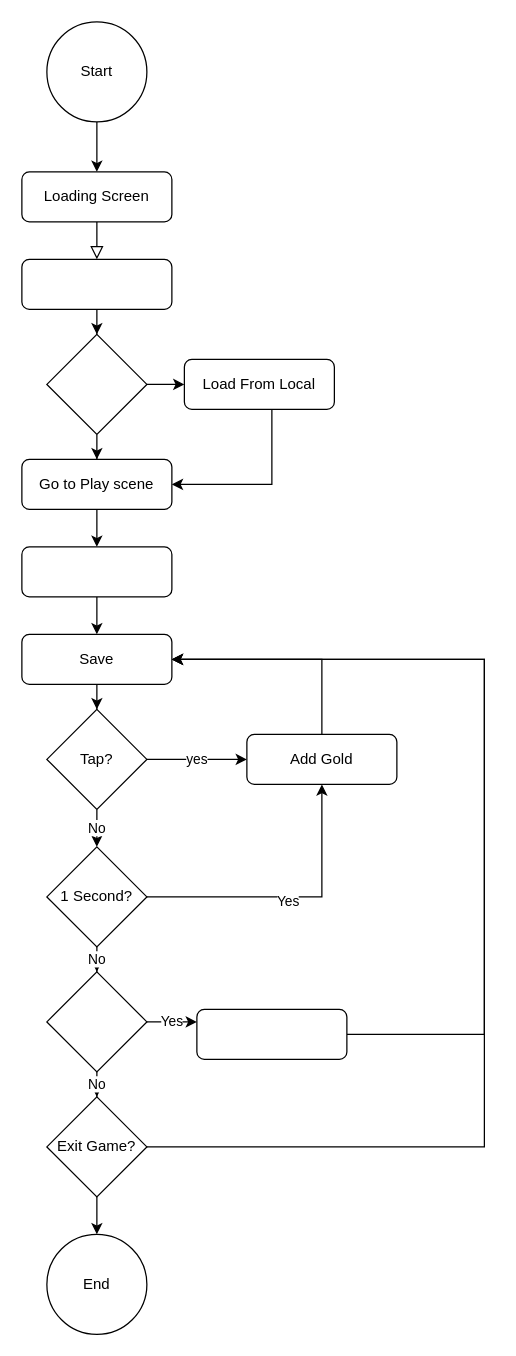
Some shapes in this 516 by 1356 pixel diagram are drawn without their labels. Each missing label, with the centre of its shape:
"Buy Resource" goes at (x=271, y=1033).
"Buy Resource?" goes at (x=96, y=1021).
"Load From Cloud" goes at (x=96, y=283).
"Load Resources" goes at (x=96, y=571).
"Load Success?" goes at (x=96, y=383).
